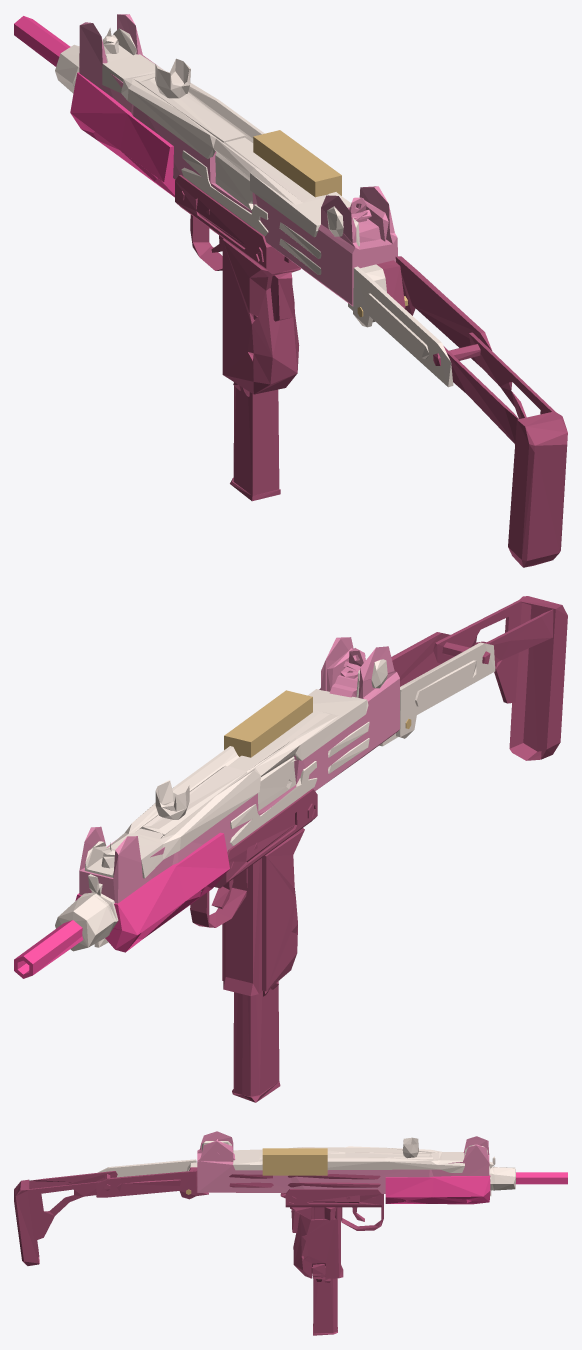
File: MachinePistol_MicroUzi.obj
3 renders of one model, top to bottom at view 1: azimuth 30°, elevation 25°; view 2: azimuth 150°, elevation 25°; view 3: azimuth 270°, elevation 25°, orthographic. The views are drawn at different scales.
Parts seen in each view (by area): view 1: Mag, Panel, Grip, Body, Accent, Bolt; view 2: Panel, Mag, Grip, Body, Accent, Bolt; view 3: Mag, Panel, Body, Grip, Accent, Bolt.
Part boxes in pixels (x1,y1,x2,y2): Mag: (175, 175, 492, 501); Panel: (55, 28, 453, 387); Grip: (433, 332, 567, 567); Body: (79, 14, 397, 306); Accent: (14, 16, 175, 197); Bolt: (253, 130, 341, 197); Panel: (55, 642, 495, 951); Mag: (190, 632, 450, 1102); Grip: (433, 596, 567, 760); Body: (79, 637, 399, 903); Accent: (14, 832, 229, 978); Bolt: (224, 690, 312, 757); Mag: (96, 1167, 404, 1335); Panel: (98, 1137, 515, 1196); Body: (197, 1131, 489, 1193); Grip: (14, 1171, 117, 1265); Accent: (385, 1172, 567, 1204); Bolt: (262, 1148, 327, 1175).
Bounding box in the file's own units: 0.1257 × 0.6637 × 1.7.
